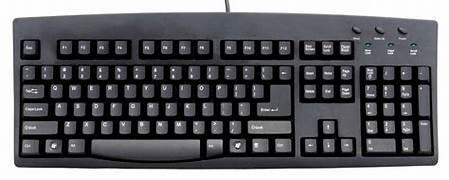keyboard: (12, 10, 438, 168)
